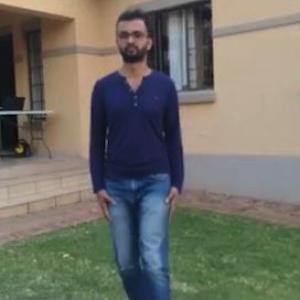follow: (88, 0, 186, 278)
